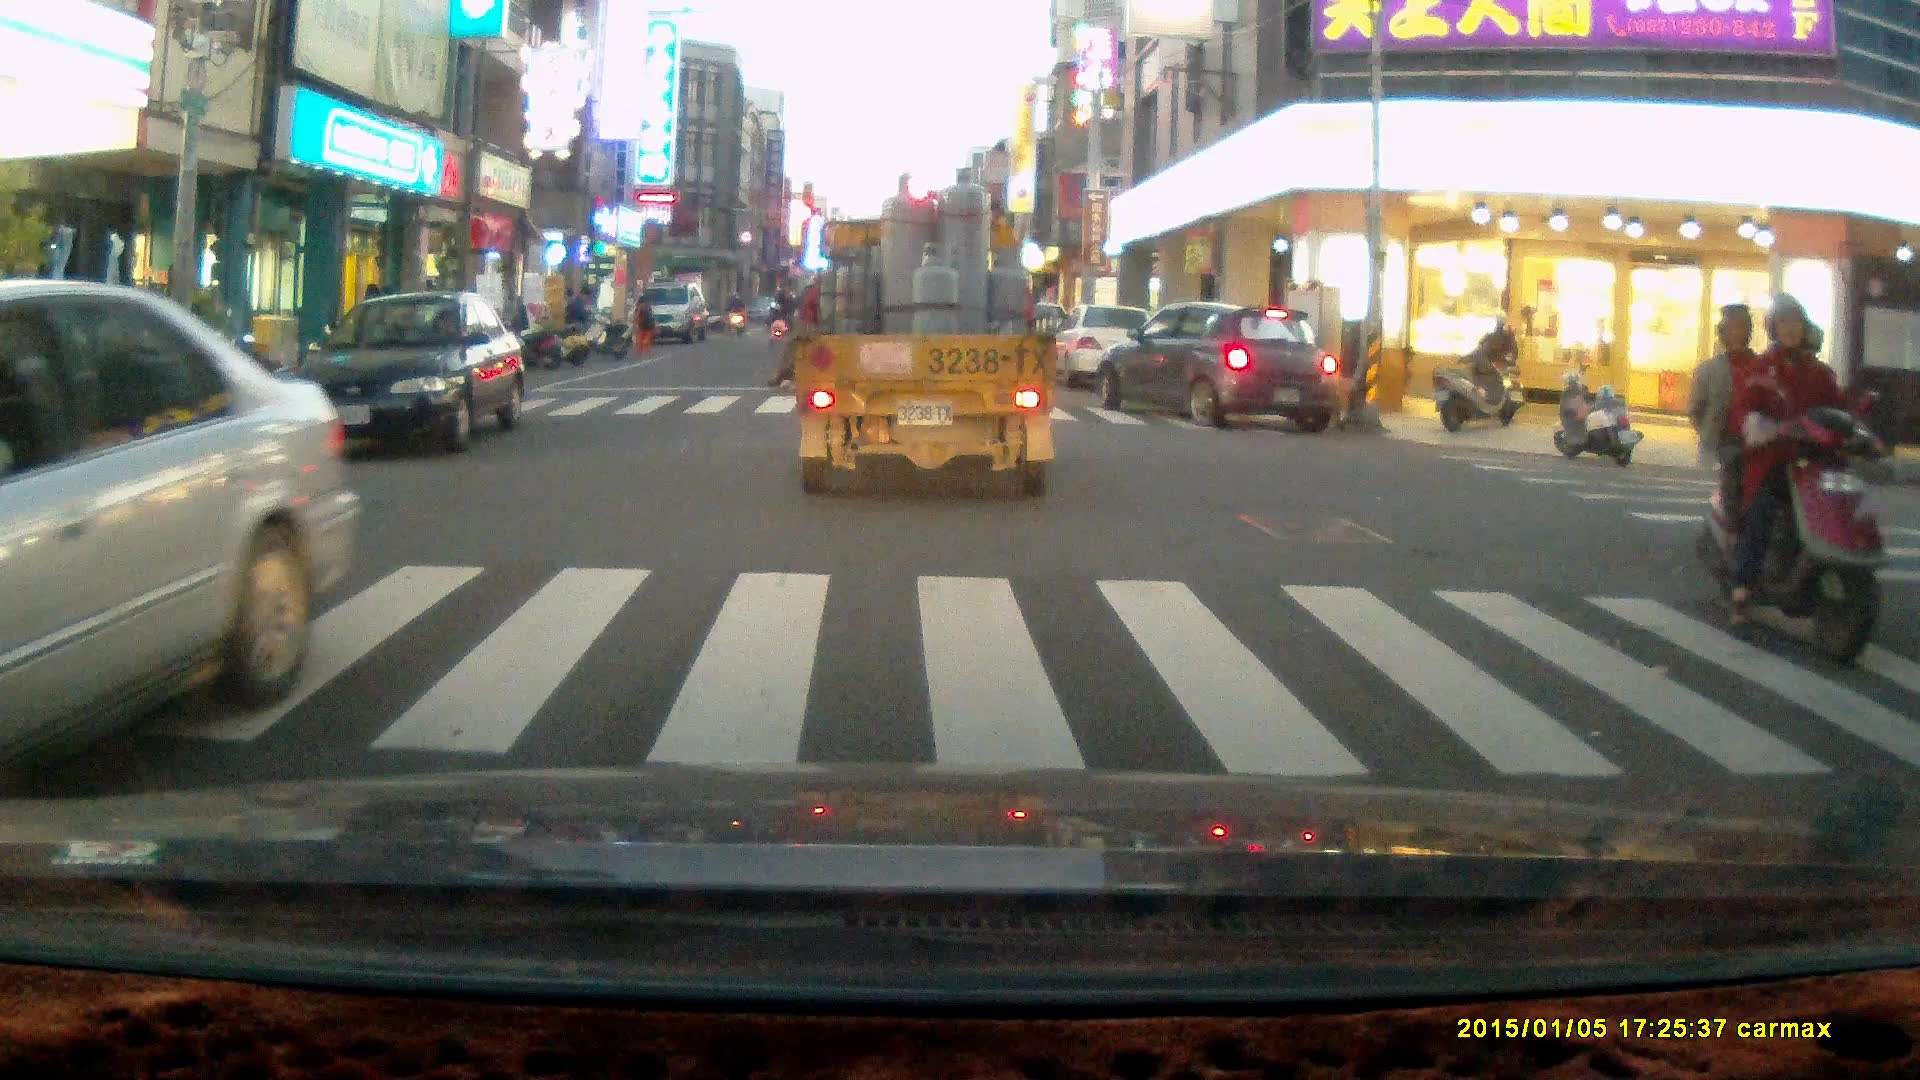pedestrian: (562, 285, 591, 351), (628, 295, 652, 355)
rider: (1686, 292, 1882, 669), (1465, 309, 1524, 428)
vehicle: (1, 282, 363, 795), (790, 163, 1069, 497), (292, 292, 527, 455), (1097, 304, 1337, 430), (1051, 306, 1170, 395), (629, 280, 704, 340)
